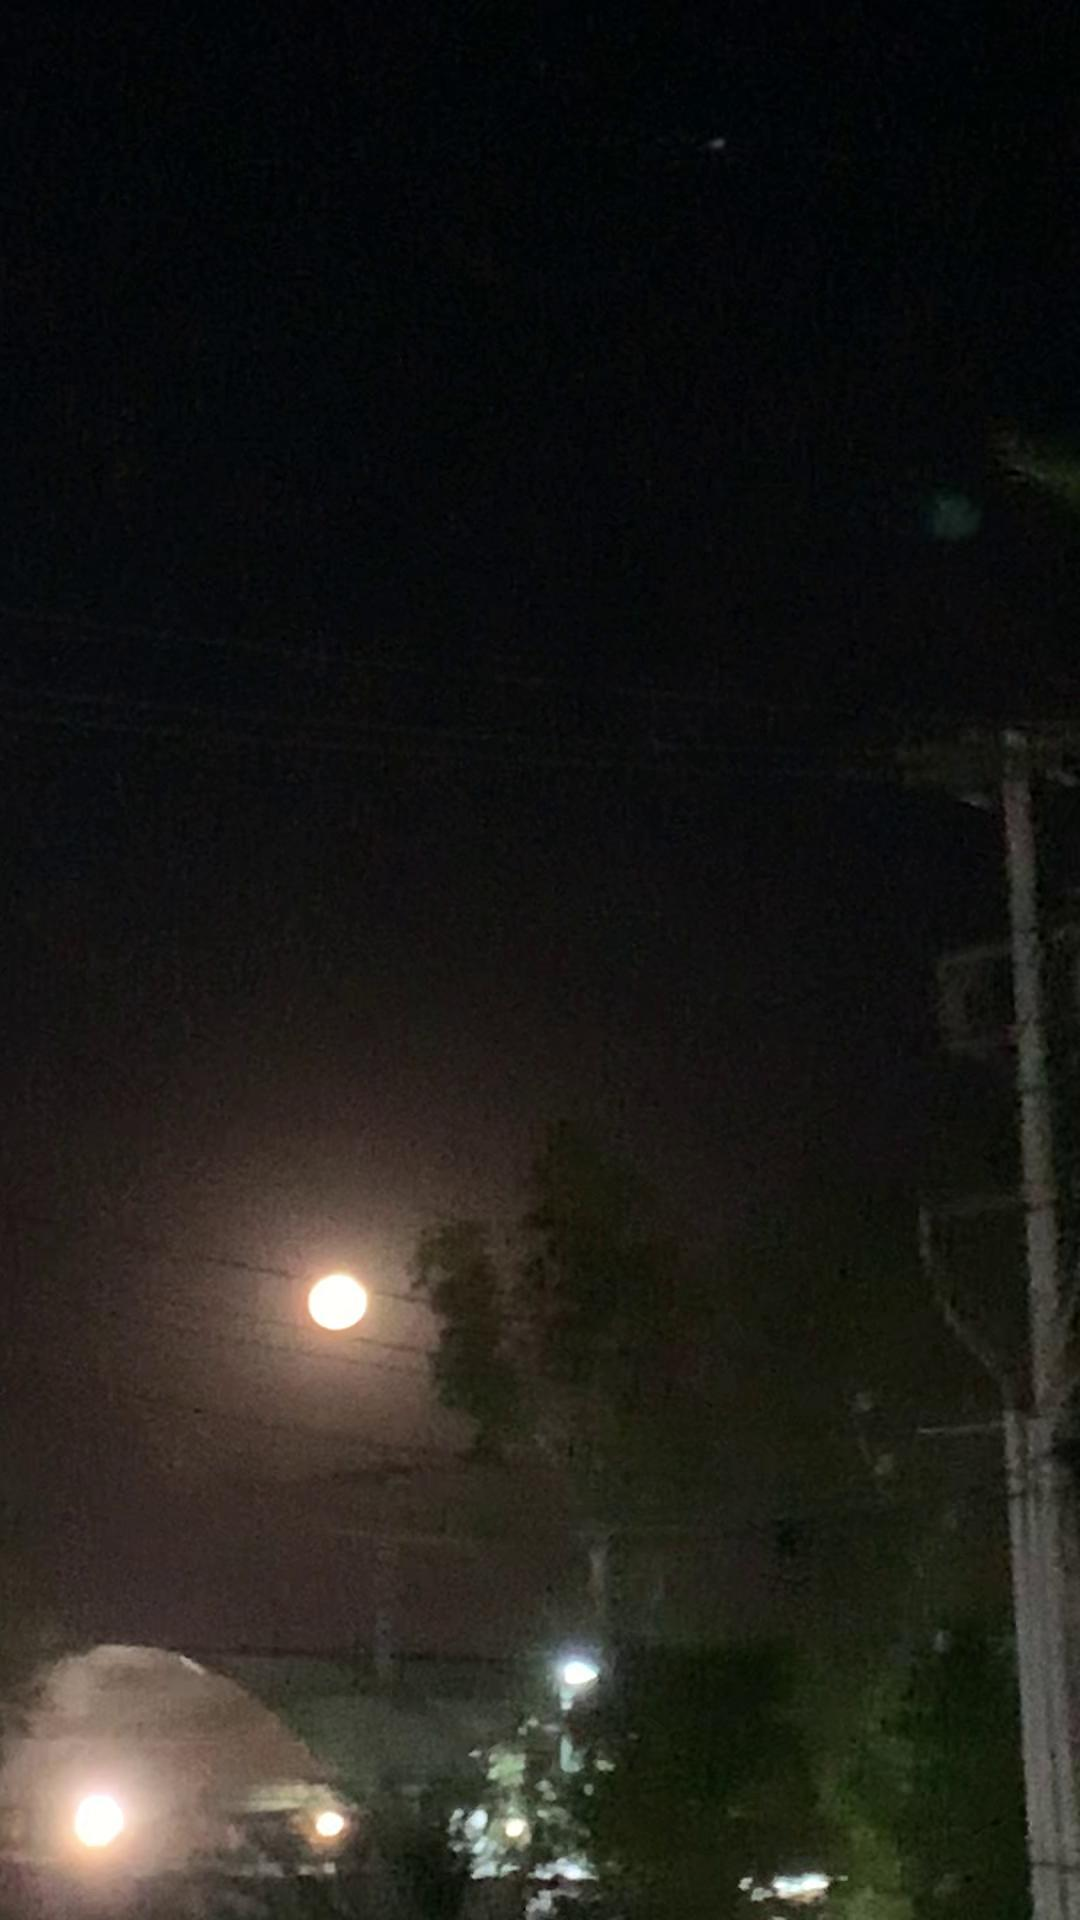moon: (298, 1267, 369, 1340)
